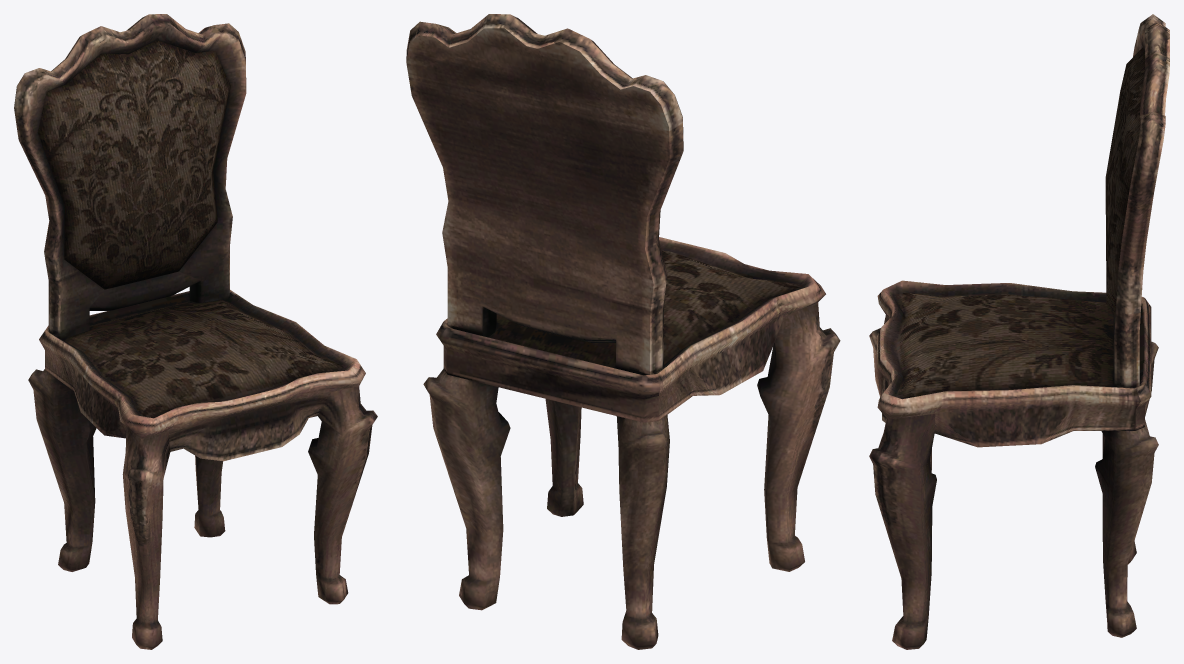
File: chair_nice12.dae
The picture shows the model from 3 angles, left to right: view 1: azimuth 30°, elevation 25°; view 2: azimuth 150°, elevation 25°; view 3: azimuth 270°, elevation 25°; orthographic projection. The views are drawn at different scales.
Visible parts, largest first — view 1: chair_nice01_Mesh; view 2: chair_nice01_Mesh; view 3: chair_nice01_Mesh.
Boxes of the visible parts, box(x1,y1,x2,y2) form: chair_nice01_Mesh: box(14, 14, 377, 649); chair_nice01_Mesh: box(406, 14, 840, 649); chair_nice01_Mesh: box(869, 14, 1169, 649).
Size of the model in its own units: 0.6539 by 1.31 by 0.6397.
